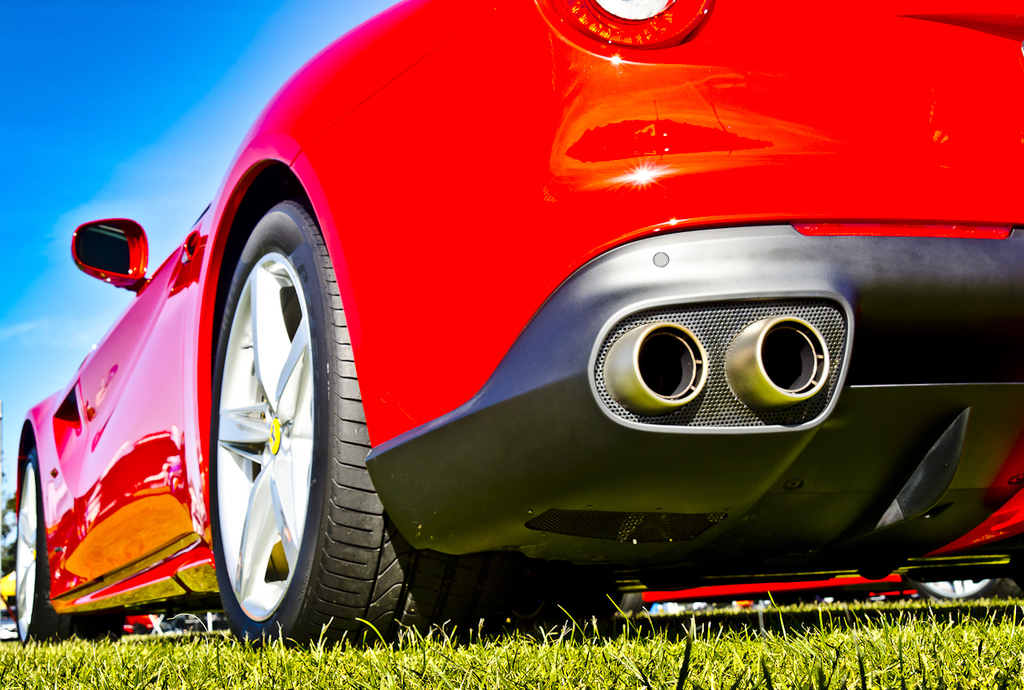cars: (75, 18, 1003, 660), (616, 578, 998, 614)
